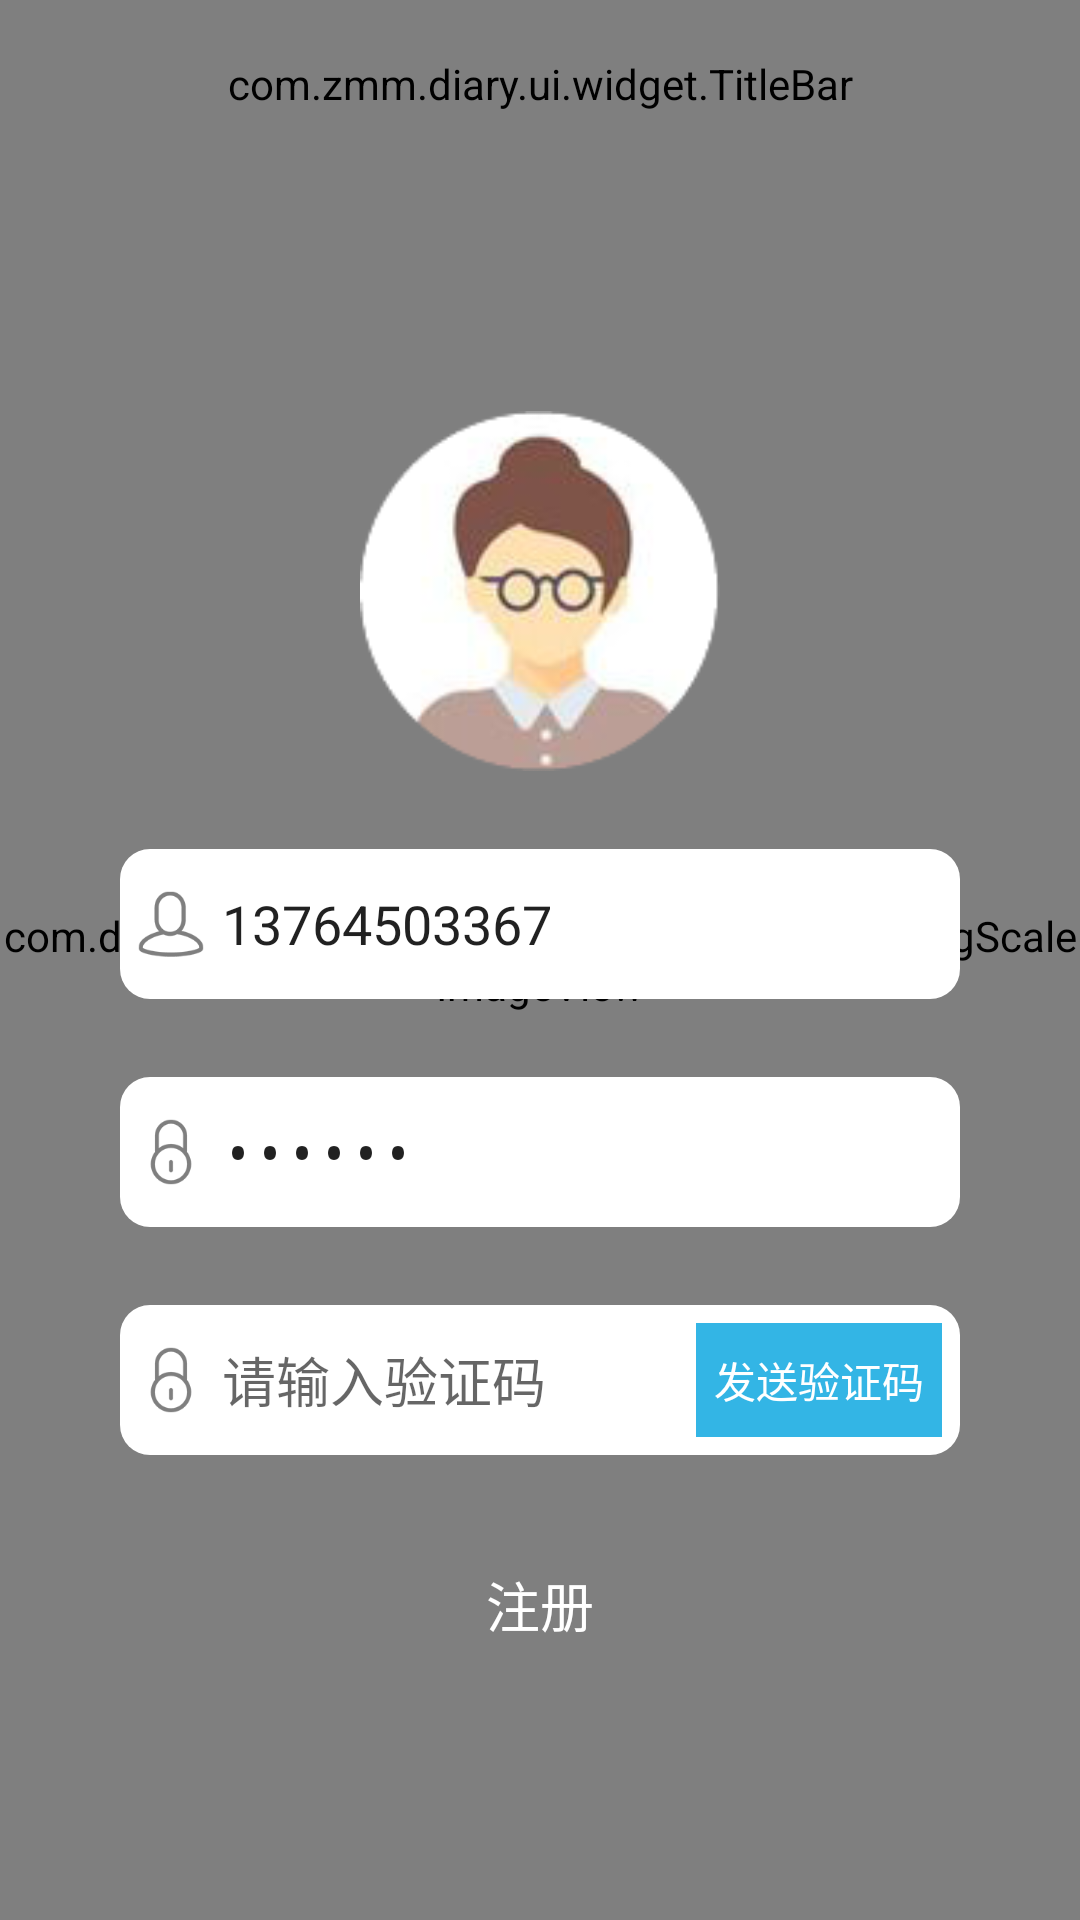

Icon click points for this 1080 x 1920 phone screenshot, format [x,y]:
login phone: [171,924]
login psd: [171,1152], [171,1380]
